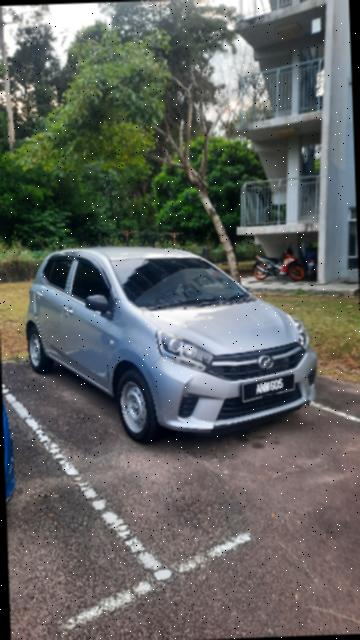License_Plate: (234, 371, 297, 405)
car: (21, 236, 323, 450)
